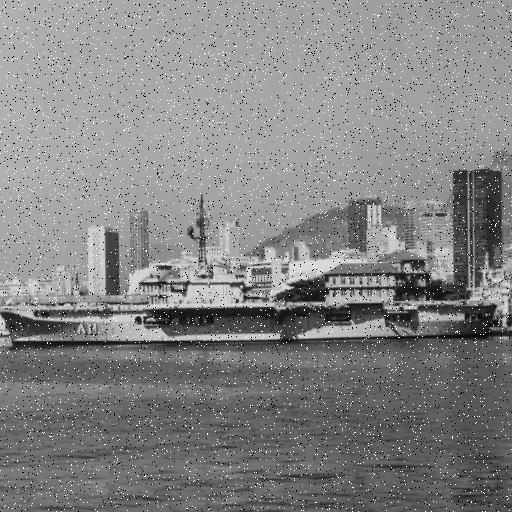Portanaves: (1, 196, 502, 355)
